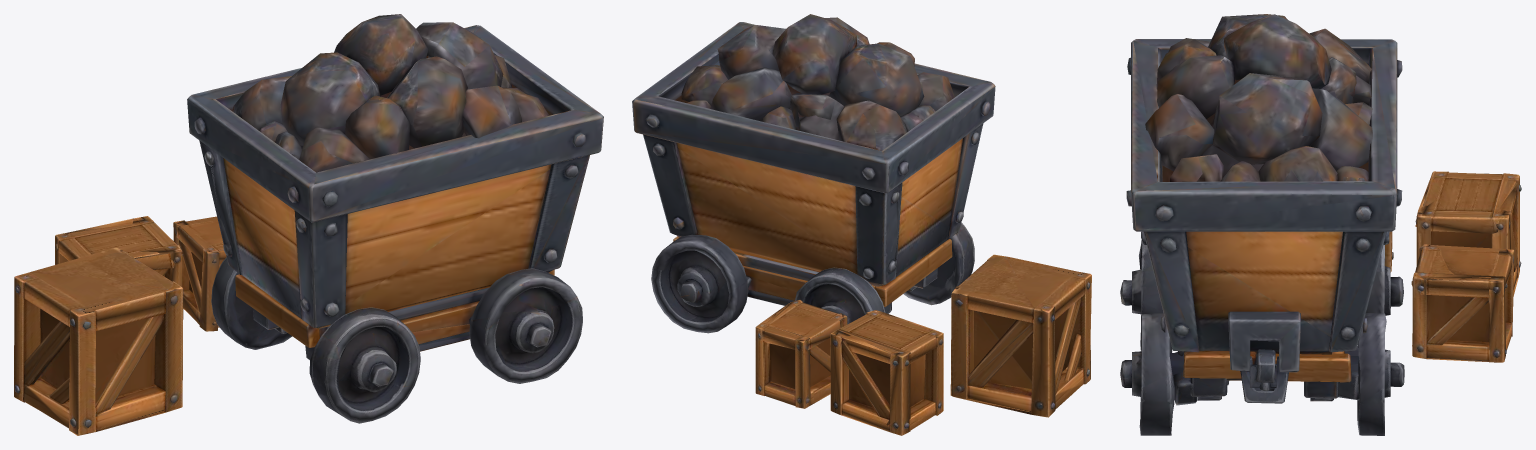
Rendered from dp_f_caisses.glb.
The picture shows the model from 3 angles, left to right: view 1: azimuth 30°, elevation 25°; view 2: azimuth 150°, elevation 25°; view 3: azimuth 270°, elevation 25°; orthographic projection. The views are drawn at different scales.
Bounding box in the file's own units: 0.9575 × 0.6328 × 0.6328.
1 material, 1 textured.
